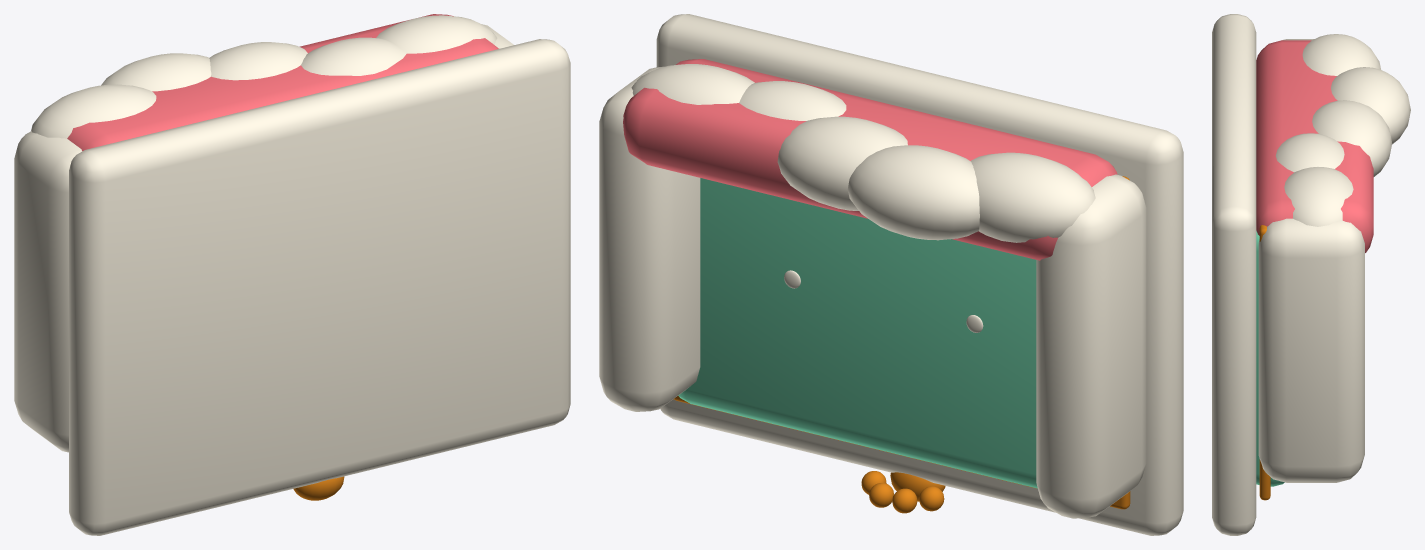
The model's file is CloudBed_Premium.fbx.
3 renders of one model, left to right at view 1: azimuth 30°, elevation 25°; view 2: azimuth 150°, elevation 25°; view 3: azimuth 270°, elevation 25°, orthographic. The views are drawn at different scales.
Parts seen in each view (by area): view 1: CloudBed_Body; view 2: CloudBed_Body; view 3: CloudBed_Body.
Boxes of the visible parts, x1=… form: CloudBed_Body: x1=14, y1=14, x2=570, y2=535; CloudBed_Body: x1=599, y1=14, x2=1183, y2=535; CloudBed_Body: x1=1212, y1=14, x2=1410, y2=535.
Size of the model in its own units: 1.05 by 0.8245 by 0.4289.
